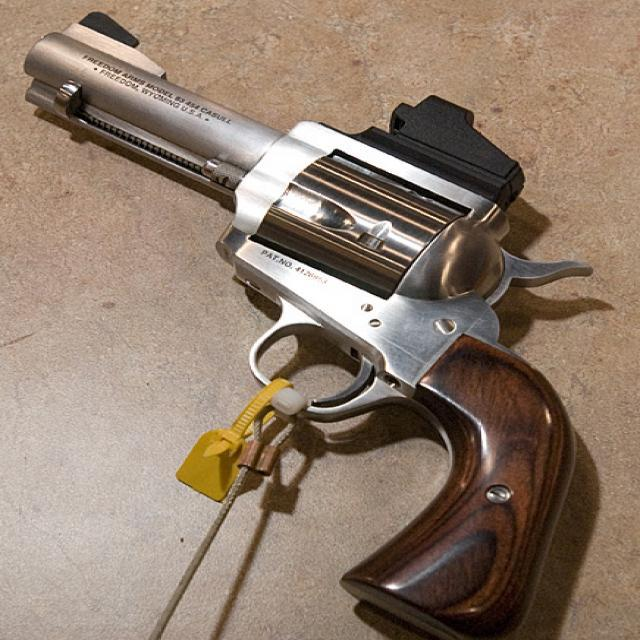weapon: (1, 20, 606, 632)
